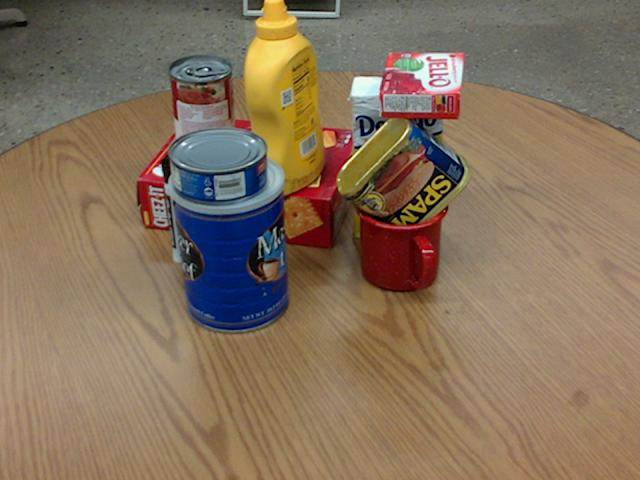cracker_box: (135, 114, 359, 248)
gelatin_box: (379, 51, 463, 117)
large_marker: (161, 155, 191, 263)
master_chef_can: (166, 147, 290, 331)
mug: (355, 180, 451, 292)
mustard_bottle: (245, 0, 324, 194)
potted_meat_can: (335, 112, 471, 243)
sugar_box: (351, 76, 445, 243)
tomato_soup_can: (167, 54, 235, 165)
tuna_fish_can: (167, 125, 267, 202)
